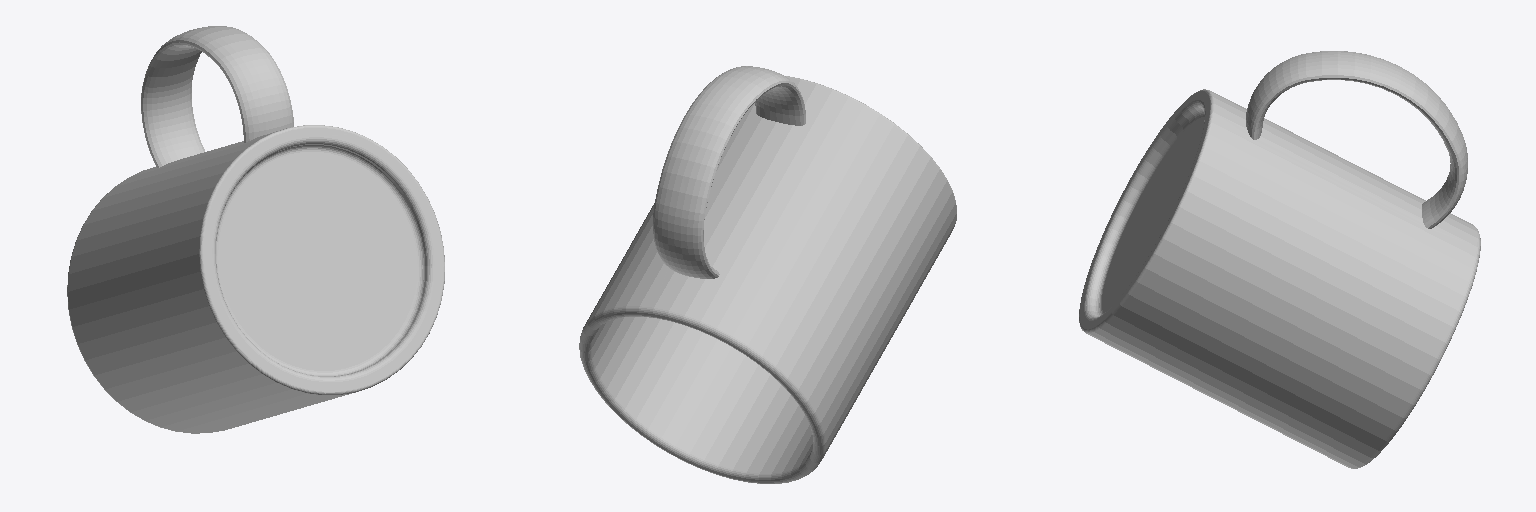
File: mug1.obj
3 renders of one model, left to right at view 1: azimuth 30°, elevation 25°; view 2: azimuth 150°, elevation 25°; view 3: azimuth 270°, elevation 25°, orthographic.
Size of the model in its own units: 0.0306 by 0.0491 by 0.045.